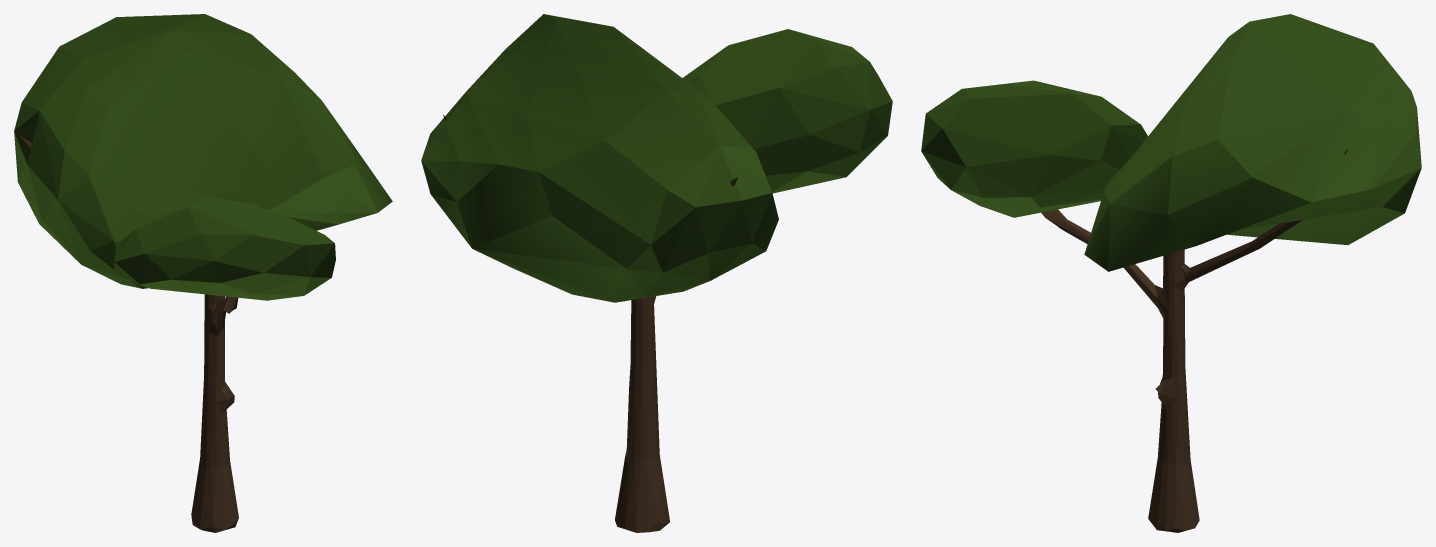
Rendered from SM_tree_02.fbx.
3 renders of one model, left to right at view 1: azimuth 30°, elevation 25°; view 2: azimuth 150°, elevation 25°; view 3: azimuth 270°, elevation 25°, orthographic. The views are drawn at different scales.
Parts seen in each view (by area): view 1: Object1156; view 2: Object1156; view 3: Object1156.
Boxes of the visible parts, x1=… form: Object1156: x1=14, y1=14, x2=392, y2=532; Object1156: x1=421, y1=14, x2=892, y2=532; Object1156: x1=921, y1=14, x2=1421, y2=532.
Bounding box in the file's own units: 101 × 154 × 140.
